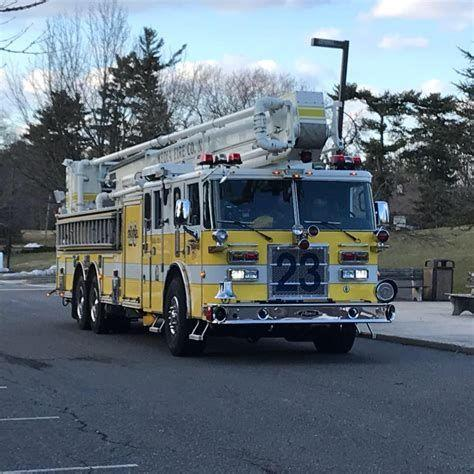firetruck_off: (56, 90, 397, 355)
